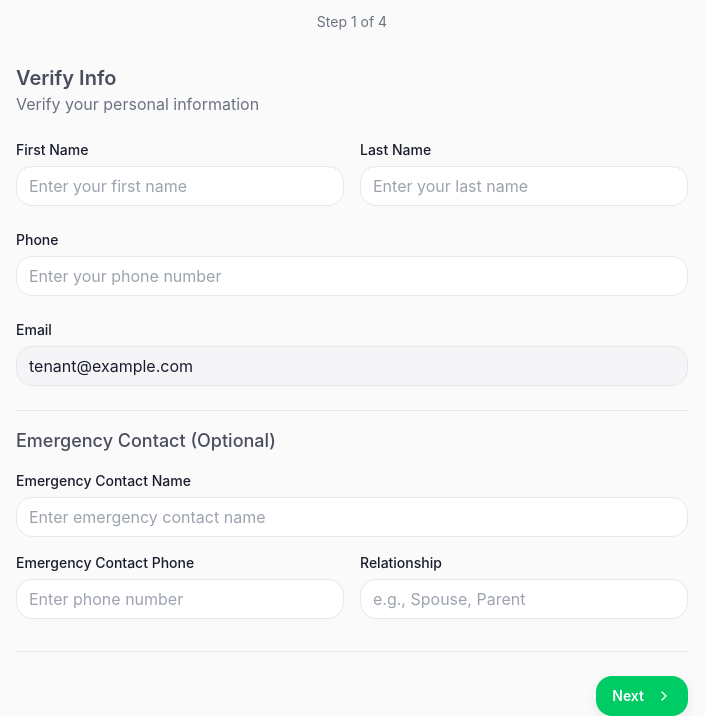
Test: OnboardingWizard › Step 1: Personal Info › should validate required fields before advancing
This screenshot has width=705, height=716.
(page scrolled)
# Try to advance without filling required fields
Click the button "Next". click: (642, 696)
box: [596,676,688,715]
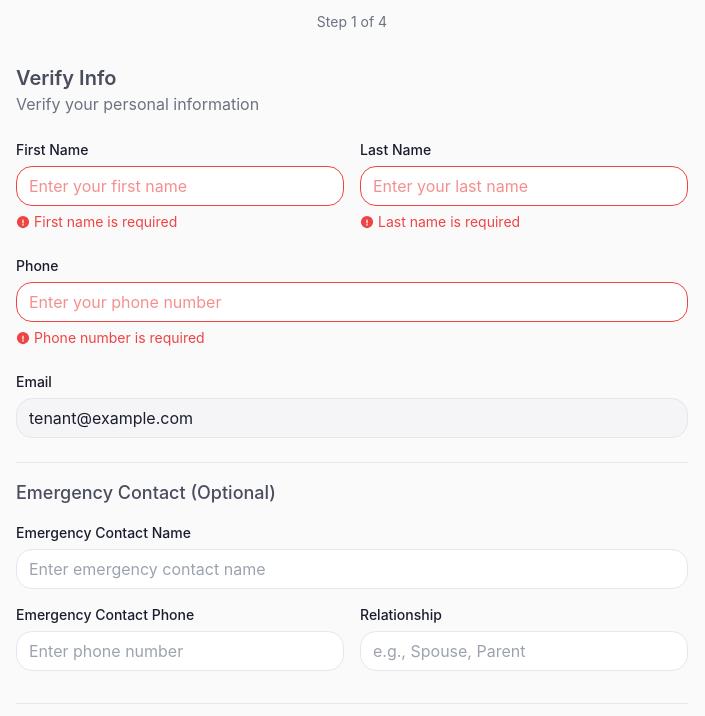
Expected: the text "First name is required" is shown, [16,213,177,230]
